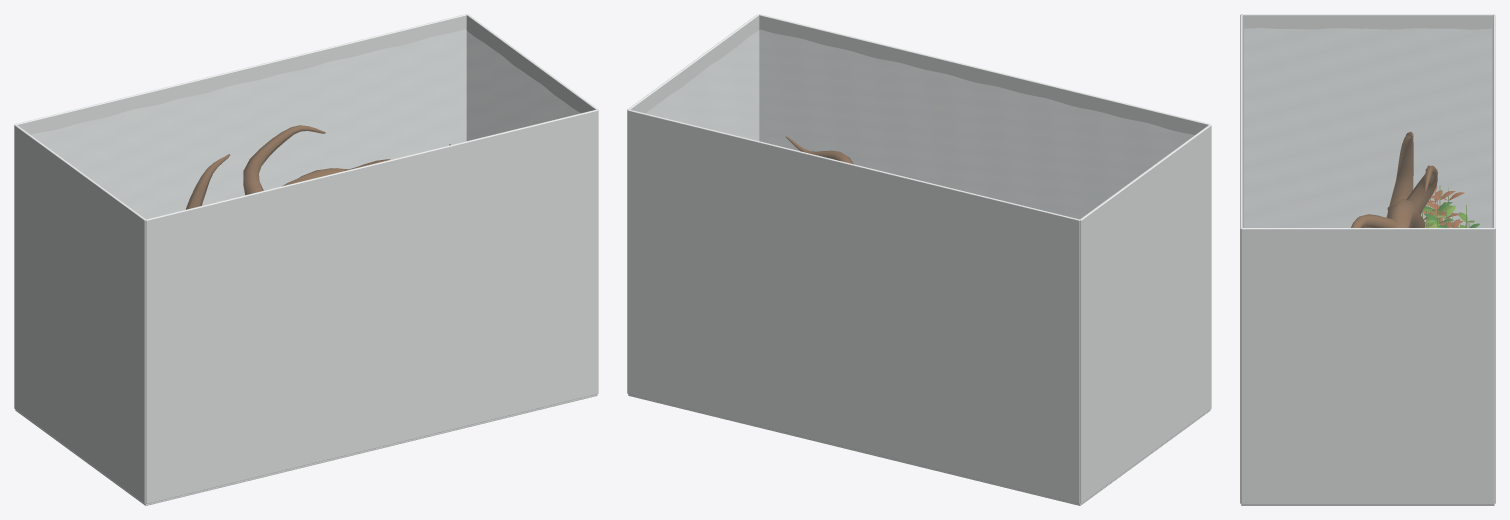
Rendered from aquarium.glb.
3 renders of one model, left to right at view 1: azimuth 30°, elevation 25°; view 2: azimuth 150°, elevation 25°; view 3: azimuth 270°, elevation 25°, orthographic. The views are drawn at different scales.
Visible parts, largest first — view 1: tank.glass.front, water.surface, tank.glass.back, tank.glass.left, tank.glass.right, hardscape.wood.arch, tank.glass.base; view 2: tank.glass.back, tank.glass.front, water.surface, tank.glass.left, tank.glass.right, tank.glass.base; view 3: tank.glass.right, tank.glass.left, water.surface, hardscape.wood.arch, tank.glass.back, tank.glass.front, plants.stem.015, tank.glass.base, plants.stem.009.
Part boxes in pixels (bbox=[...]): tank.glass.front: bbox=[145, 109, 598, 503]; water.surface: bbox=[31, 30, 579, 218]; tank.glass.back: bbox=[15, 14, 466, 219]; tank.glass.left: bbox=[14, 124, 145, 503]; tank.glass.right: bbox=[466, 14, 598, 392]; hardscape.wood.arch: bbox=[185, 125, 450, 209]; tank.glass.base: bbox=[15, 394, 597, 505]; tank.glass.back: bbox=[627, 109, 1080, 503]; tank.glass.front: bbox=[759, 14, 1210, 219]; water.surface: bbox=[646, 30, 1194, 218]; tank.glass.left: bbox=[1080, 124, 1211, 503]; tank.glass.right: bbox=[627, 14, 759, 392]; tank.glass.base: bbox=[628, 394, 1210, 505]; tank.glass.right: bbox=[1241, 228, 1494, 504]; tank.glass.left: bbox=[1241, 14, 1494, 227]; water.surface: bbox=[1244, 28, 1491, 227]; hardscape.wood.arch: bbox=[1351, 131, 1437, 227]; tank.glass.back: bbox=[1493, 14, 1495, 503]; tank.glass.front: bbox=[1240, 14, 1242, 503]; plants.stem.015: bbox=[1422, 185, 1464, 227]; tank.glass.base: bbox=[1241, 504, 1494, 505]; plants.stem.009: bbox=[1423, 195, 1455, 227].
Size of the model in its own units: 0.603 by 0.363 by 0.303.
